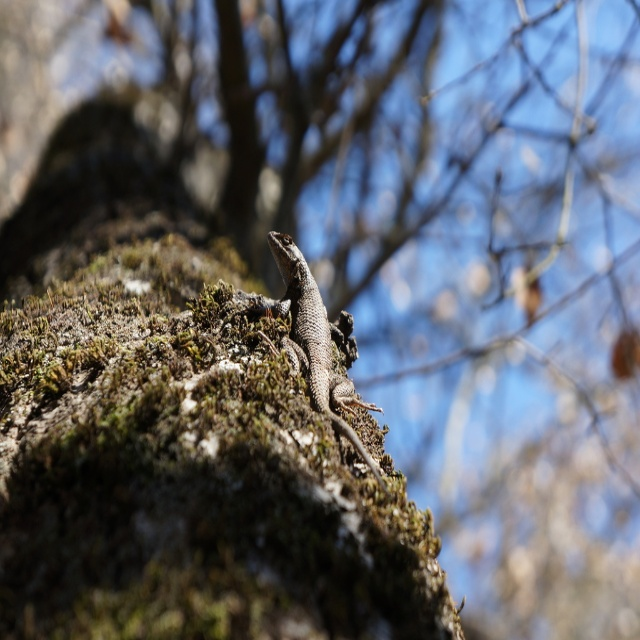Lizard: (260, 227, 368, 439)
